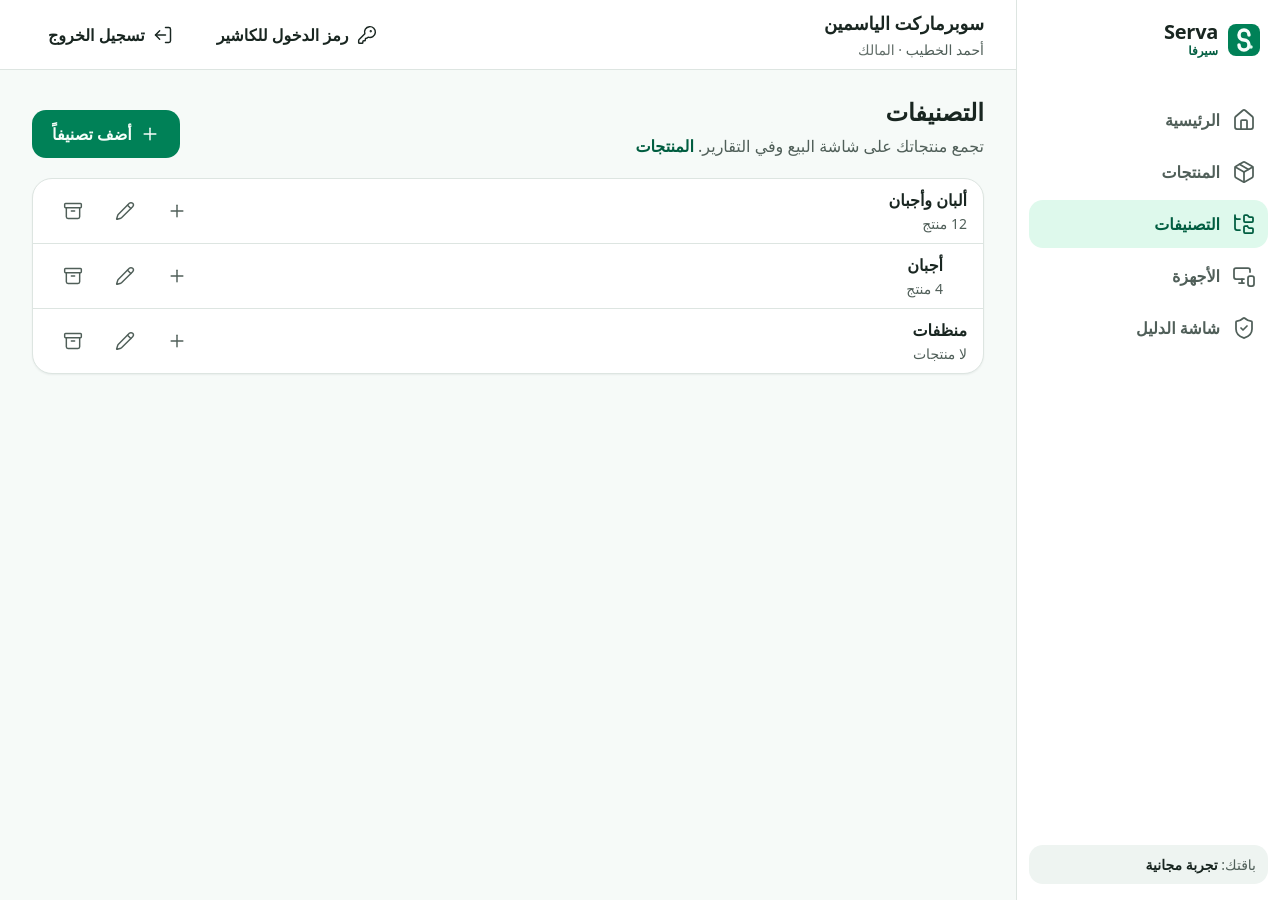
Test: /categories › reloads when someone changed the category first
Click the button named "أرشف «منظفات»": (73, 341) [49,317,97,365]
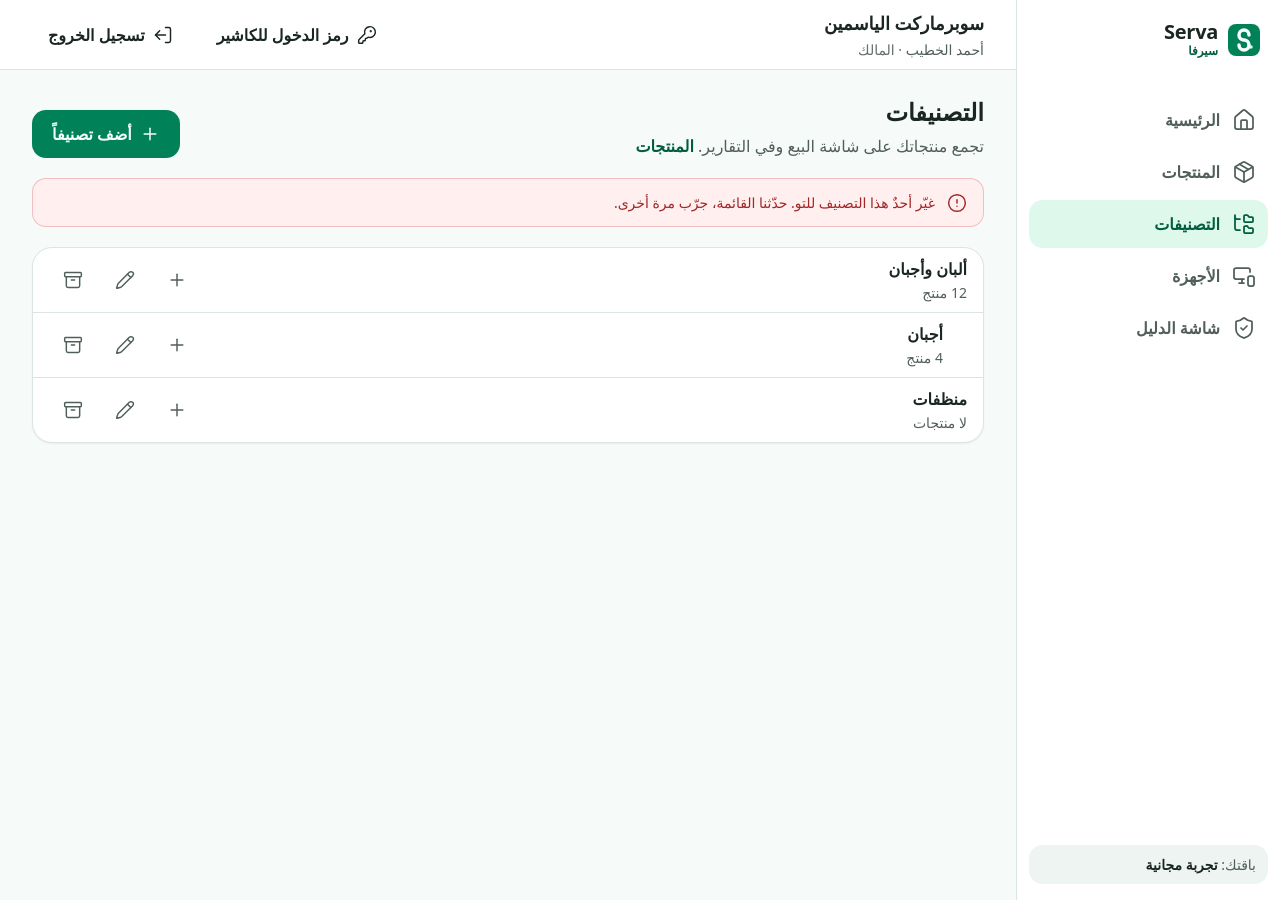
Expected: the message reads "غيّر أحدٌ هذا التصنيف للتو. حدّثنا القائمة، جرّب مرة أخرى.", [614,193,935,212]
